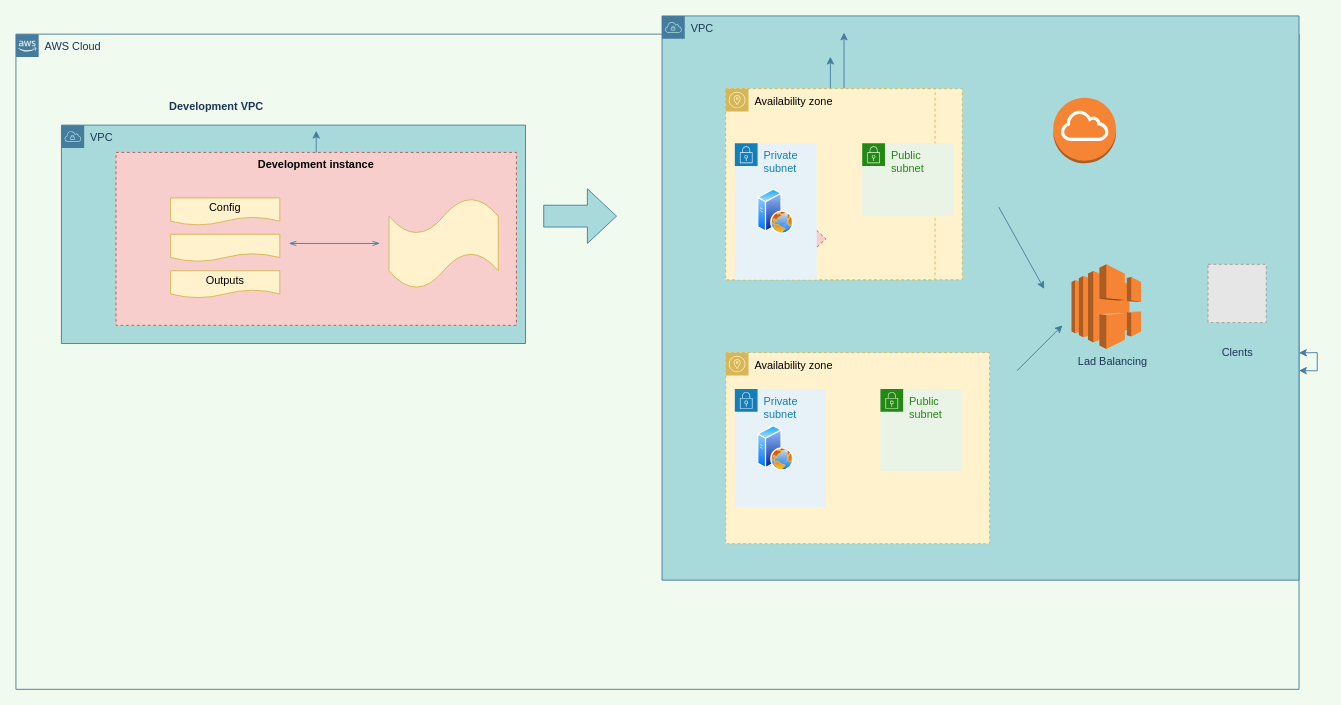
The diagram is 1341 pixels wide and 705 high, and some of its shapes have lost their labels. Grey dashed boxes stand in for pictures. The shapes that lost their labels are listed below. From the top down, each one's centre as x and y in pixels, then its label:
At (x=225, y=247): "Variables".
At (x=443, y=243): "Terraform".
